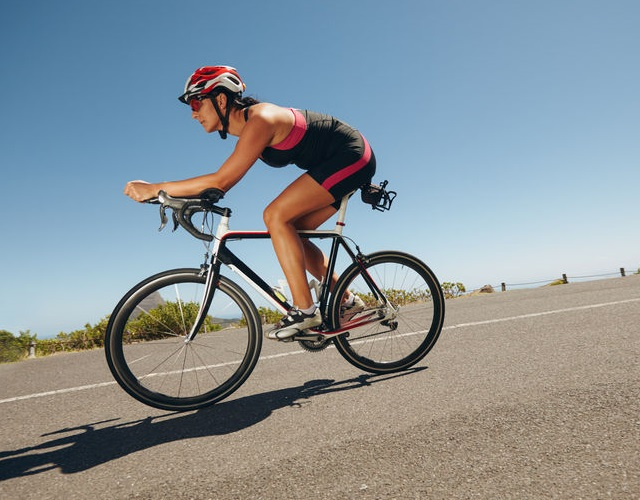bicycle: (76, 181, 457, 400)
